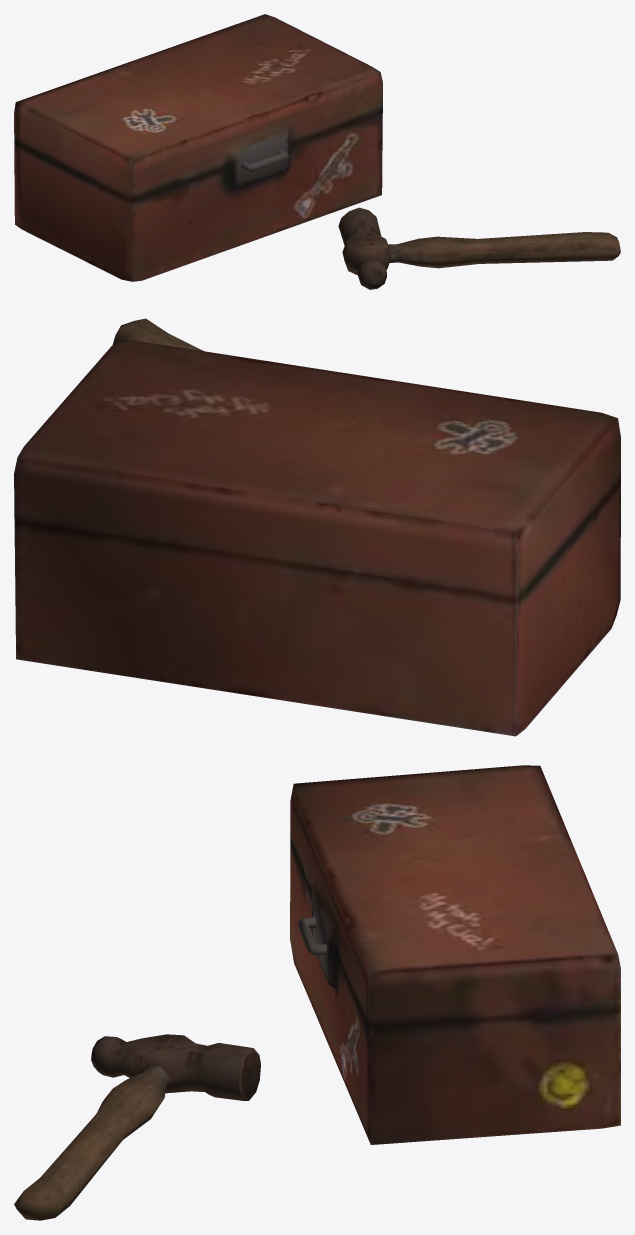
Rendered from tier1emptyprotodef.glb.
3 views of the same model, one above another, from view 1: azimuth 30°, elevation 25°; view 2: azimuth 150°, elevation 25°; view 3: azimuth 270°, elevation 25° (orthographic). The views are drawn at different scales.
Visible parts, largest first — view 1: tier1EmptyProtoDef; view 2: tier1EmptyProtoDef; view 3: tier1EmptyProtoDef.
Boxes of the visible parts, x1,y1,x2,y2 form: tier1EmptyProtoDef: (14,14,620,289); tier1EmptyProtoDef: (14,318,620,736); tier1EmptyProtoDef: (14,765,620,1220).
Size of the model in its own units: 0.6862 by 0.1944 by 0.6095.
1 material, 1 textured.
